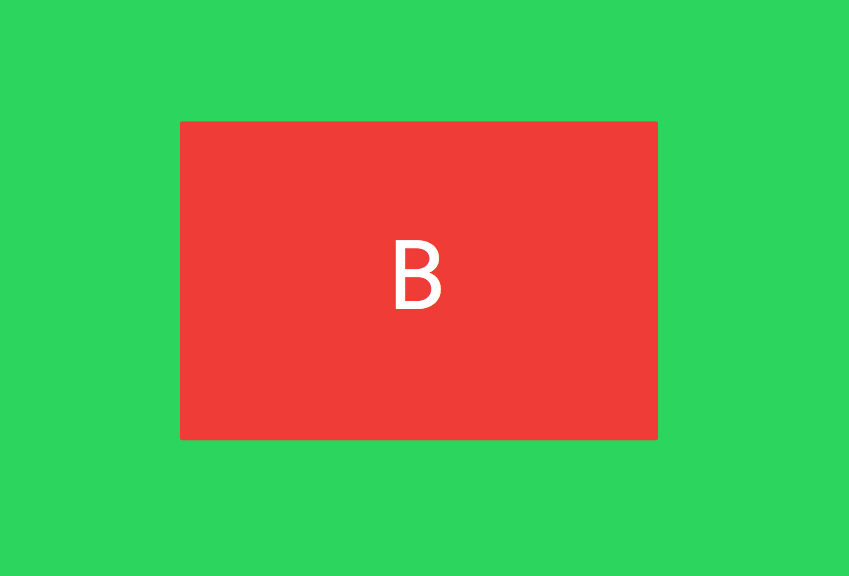B: (385, 235, 453, 316)
rectangle: (173, 115, 666, 449)
